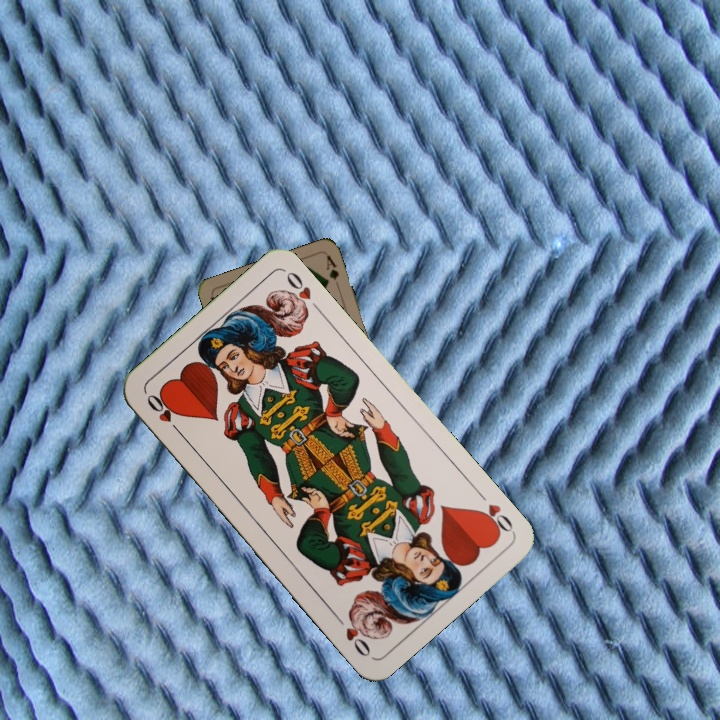HO: (472, 486, 516, 539), (142, 389, 185, 438)
